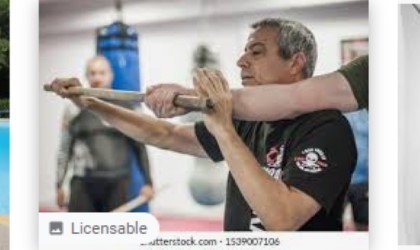baston_e: (56, 80, 196, 112)
baston_v: (199, 94, 218, 115), (39, 82, 49, 92)
